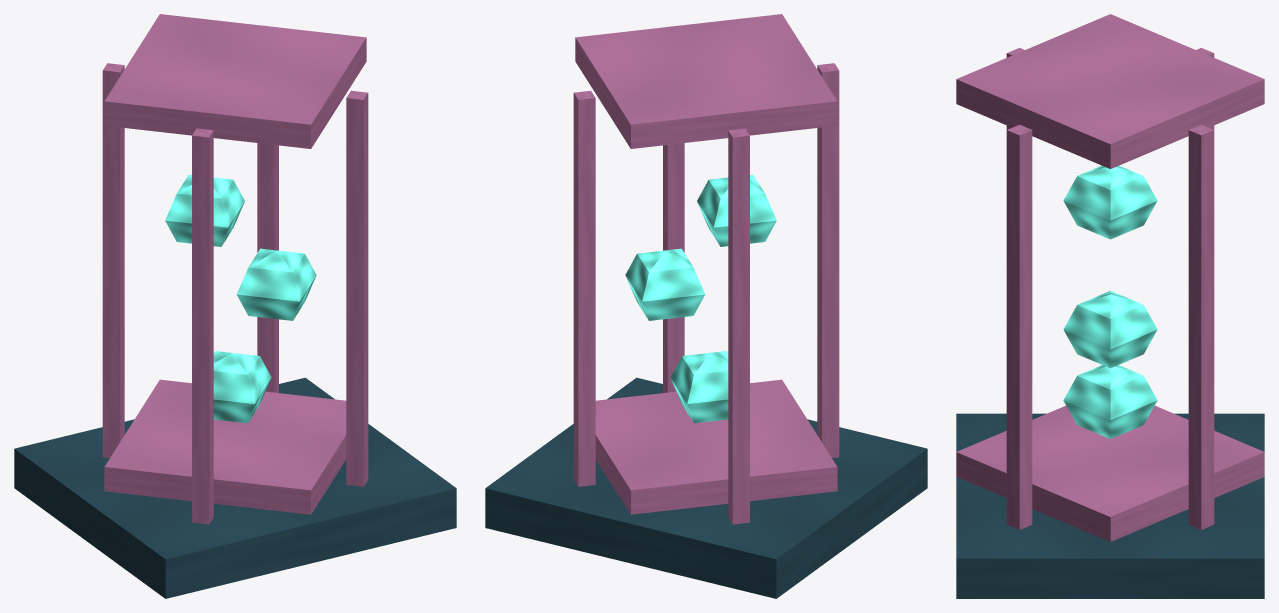
File: atlas100-s070-a01.lod2.glb
3 renders of one model, left to right at view 1: azimuth 30°, elevation 25°; view 2: azimuth 150°, elevation 25°; view 3: azimuth 270°, elevation 25°, orthographic.
Parts seen in each view (by area): view 1: atlas100-s070-a01:part-000, atlas100-s070-a01:part-004, atlas100-s070-a01:part-003, atlas100-s070-a01:part-005, atlas100-s070-a01:part-007, atlas100-s070-a01:part-009, atlas100-s070-a01:part-014, atlas100-s070-a01:part-011, atlas100-s070-a01:part-013, atlas100-s070-a01:part-015; view 2: atlas100-s070-a01:part-000, atlas100-s070-a01:part-004, atlas100-s070-a01:part-003, atlas100-s070-a01:part-011, atlas100-s070-a01:part-009, atlas100-s070-a01:part-007, atlas100-s070-a01:part-014, atlas100-s070-a01:part-005, atlas100-s070-a01:part-013, atlas100-s070-a01:part-015; view 3: atlas100-s070-a01:part-000, atlas100-s070-a01:part-004, atlas100-s070-a01:part-003, atlas100-s070-a01:part-005, atlas100-s070-a01:part-011, atlas100-s070-a01:part-014, atlas100-s070-a01:part-013, atlas100-s070-a01:part-015.
Boxes of the visible parts, box(x1,y1,x2,y2) form: atlas100-s070-a01:part-000: box(14, 377, 456, 598); atlas100-s070-a01:part-004: box(104, 14, 366, 148); atlas100-s070-a01:part-003: box(104, 379, 346, 514); atlas100-s070-a01:part-005: box(346, 90, 368, 486); atlas100-s070-a01:part-007: box(192, 128, 213, 524); atlas100-s070-a01:part-009: box(102, 63, 124, 457); atlas100-s070-a01:part-014: box(236, 248, 316, 320); atlas100-s070-a01:part-011: box(257, 25, 278, 392); atlas100-s070-a01:part-013: box(191, 351, 271, 423); atlas100-s070-a01:part-015: box(165, 174, 244, 246); atlas100-s070-a01:part-000: box(485, 377, 927, 598); atlas100-s070-a01:part-004: box(575, 14, 837, 148); atlas100-s070-a01:part-003: box(595, 379, 837, 514); atlas100-s070-a01:part-011: box(573, 90, 595, 486); atlas100-s070-a01:part-009: box(728, 128, 749, 524); atlas100-s070-a01:part-007: box(817, 63, 839, 457); atlas100-s070-a01:part-014: box(625, 248, 705, 320); atlas100-s070-a01:part-005: box(663, 25, 684, 392); atlas100-s070-a01:part-013: box(670, 351, 750, 423); atlas100-s070-a01:part-015: box(697, 174, 776, 246); atlas100-s070-a01:part-000: box(956, 413, 1264, 598); atlas100-s070-a01:part-004: box(956, 14, 1264, 168); atlas100-s070-a01:part-003: box(956, 405, 1264, 541); atlas100-s070-a01:part-005: box(1006, 124, 1032, 529); atlas100-s070-a01:part-011: box(1188, 124, 1214, 529); atlas100-s070-a01:part-014: box(1063, 291, 1157, 368); atlas100-s070-a01:part-013: box(1063, 365, 1157, 438); atlas100-s070-a01:part-015: box(1063, 165, 1157, 239).
Size of the model in its own units: 2 by 2.88 by 1.8.
Materials: 3 (3 with a texture image).
